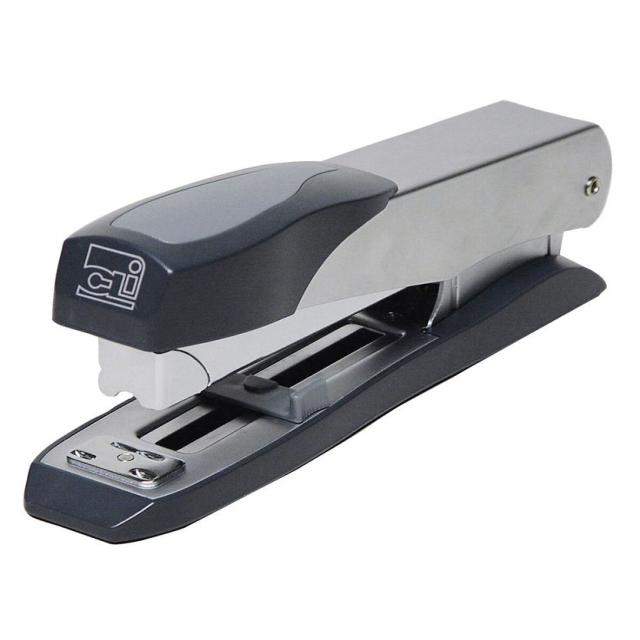Stapler: (0, 100, 640, 545)
